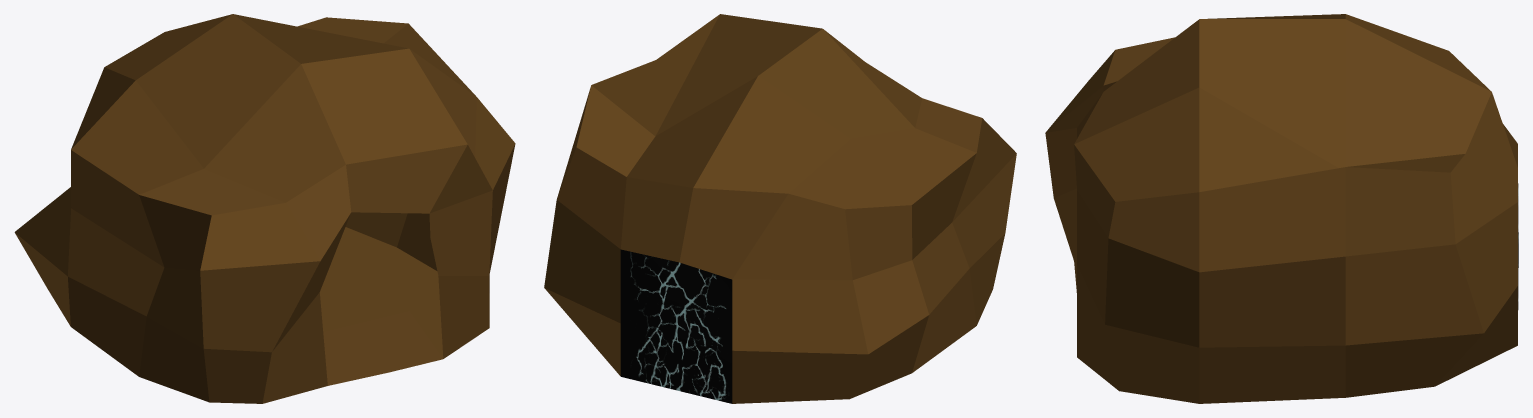
Rendered from Room1_puzzleA.fbx.
3 views of the same model, side by side, from view 1: azimuth 30°, elevation 25°; view 2: azimuth 150°, elevation 25°; view 3: azimuth 270°, elevation 25° (orthographic). The views are drawn at different scales.
Visible parts, largest first — view 1: Room1; view 2: Room1, Room1_door1_piece_7, Room1_door1_piece_1, Room1_door1_piece_2, Room1_door1_piece_3, Room1_door1_piece_5, Room1_door1_piece_6, Room1_door1_piece_4; view 3: Room1.
Part boxes in pixels (<box>): Room1: <box>14,14,515,403</box>; Room1: <box>544,14,1016,403</box>; Room1_door1_piece_7: <box>620,249,668,332</box>; Room1_door1_piece_1: <box>651,256,714,363</box>; Room1_door1_piece_2: <box>687,274,732,350</box>; Room1_door1_piece_3: <box>639,332,682,390</box>; Room1_door1_piece_5: <box>679,340,716,399</box>; Room1_door1_piece_6: <box>620,323,655,382</box>; Room1_door1_piece_4: <box>710,345,732,403</box>; Room1: <box>1045,14,1517,403</box>.
Size of the model in its own units: 725 by 491 by 717.
Materials: 2 (2 with a texture image).
